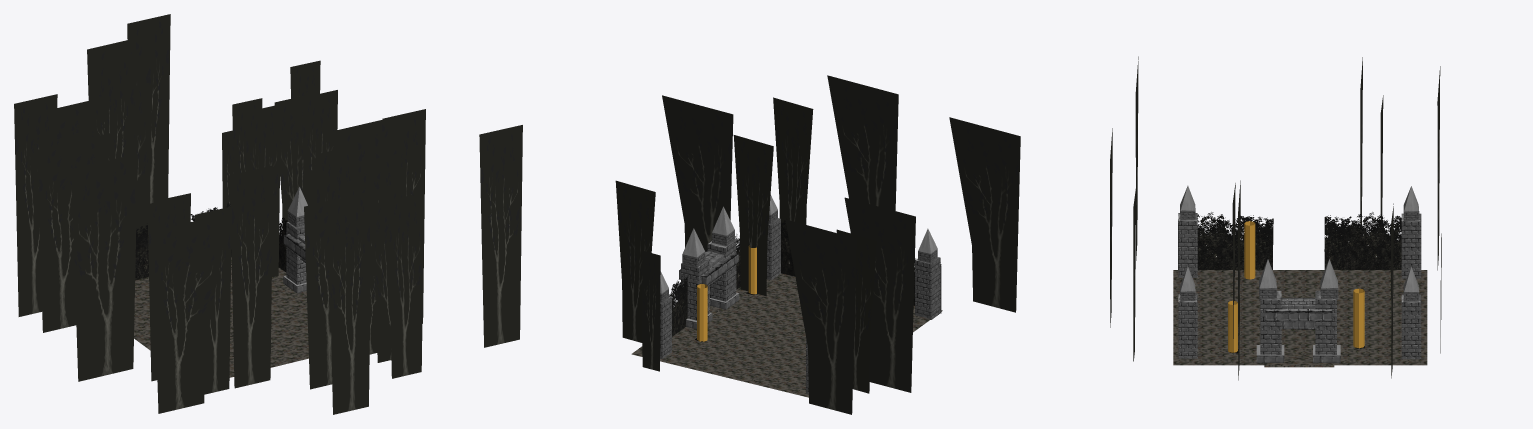
Rendered from cgc_mole_room.fbx.
The picture shows the model from 3 angles, left to right: view 1: azimuth 30°, elevation 25°; view 2: azimuth 150°, elevation 25°; view 3: azimuth 270°, elevation 25°; orthographic projection. The views are drawn at different scales.
Visible parts, largest first — view 1: pPlane277, pPlane79, pPlane50, pPlane269, pPlane287, pPlane291, pPlane281, pPlane271, pPlane288, Ground, pPlane286, pPlane280 (+20 smaller); view 2: Ground, pPlane79, pPlane282, pPlane291, pPlane270, pPlane288, pCube126 (×5), pPlane285, pPlane279, pPlane47, pPlane273, pPlane3 (+6 smaller); view 3: Ground, hedge, pCube126 (×6), pCube136, pCylinder5, pCylinder48, SeemPatch, pCube137, pCube138, pPlane282, pCylinder45, pPlane79 (+4 smaller).
Boxes of the visible parts, bbox=[...] form: pPlane277: bbox=[71, 154, 137, 381]; pPlane79: bbox=[152, 213, 228, 413]; pPlane50: bbox=[328, 192, 371, 414]; pPlane269: bbox=[479, 125, 522, 347]; pPlane287: bbox=[230, 165, 273, 388]; pPlane291: bbox=[37, 132, 113, 332]; pPlane281: bbox=[14, 94, 57, 316]; pPlane271: bbox=[388, 193, 423, 378]; pPlane288: bbox=[304, 189, 380, 389]; Ground: bbox=[134, 257, 308, 377]; pPlane286: bbox=[127, 14, 170, 203]; pPlane280: bbox=[92, 54, 135, 160]; Ground: bbox=[631, 273, 942, 397]; pPlane79: bbox=[949, 117, 1020, 312]; pPlane282: bbox=[785, 219, 856, 414]; pPlane291: bbox=[844, 197, 915, 392]; pPlane270: bbox=[662, 95, 733, 250]; pPlane288: bbox=[827, 75, 898, 210]; pCube126 (×5): bbox=[660, 218, 940, 358]; pPlane285: bbox=[733, 135, 773, 296]; pPlane279: bbox=[615, 180, 655, 342]; pPlane47: bbox=[773, 97, 813, 240]; pPlane273: bbox=[836, 229, 876, 393]; pPlane3: bbox=[642, 250, 660, 371]; Ground: bbox=[1173, 270, 1427, 365]; hedge: bbox=[1178, 212, 1401, 269]; pCube126 (×6): bbox=[1178, 213, 1421, 359]; pCube136: bbox=[1265, 298, 1332, 320]; pCylinder5: bbox=[1353, 288, 1364, 348]; pCylinder48: bbox=[1244, 221, 1255, 279]; SeemPatch: bbox=[1264, 354, 1334, 367]; pCube137: bbox=[1320, 259, 1338, 299]; pCube138: bbox=[1259, 259, 1276, 299]; pPlane282: bbox=[1437, 66, 1440, 270]; pCylinder45: bbox=[1228, 300, 1237, 352]; pPlane79: bbox=[1135, 56, 1138, 260].
Size of what is drawn, in the model's own units: 187 by 102 by 198.
